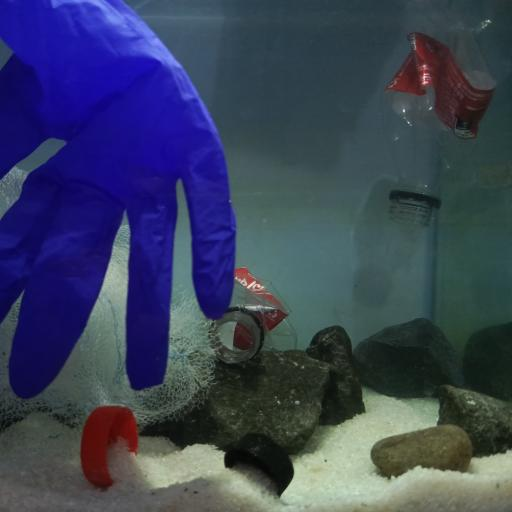bottle_cap: (81, 407, 136, 486), (225, 431, 294, 492)
glove: (0, 0, 238, 390)
net: (0, 162, 224, 452)
plastic_bottle: (380, 9, 500, 229), (210, 266, 298, 364)
